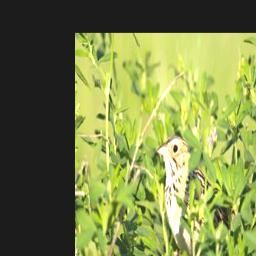Sparrow: (155, 133, 235, 256)
